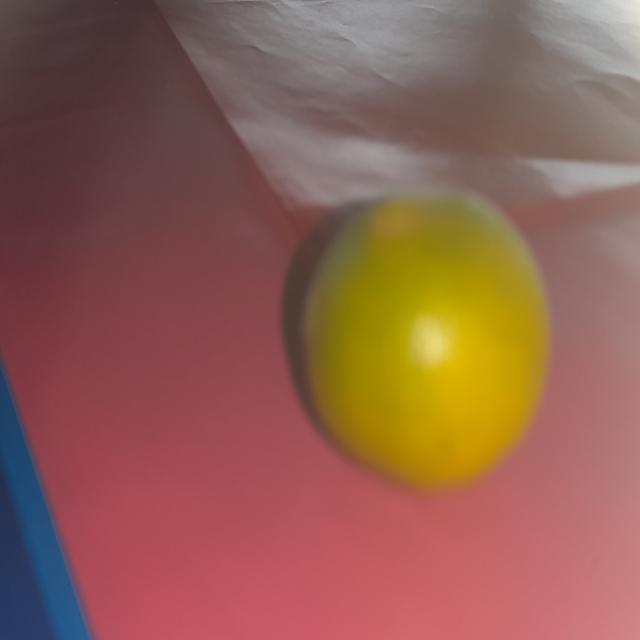greening: (299, 181, 556, 494)
